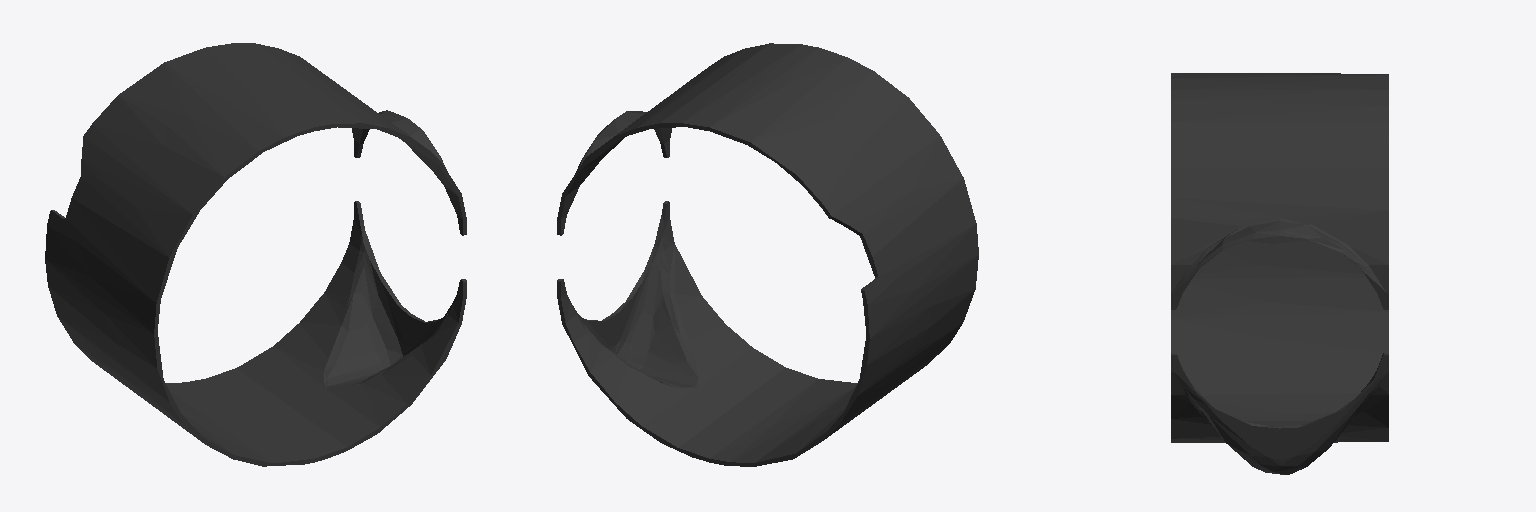
The picture shows the model from 3 angles: view 1: azimuth 30°, elevation 25°; view 2: azimuth 150°, elevation 25°; view 3: azimuth 270°, elevation 25°; orthographic projection.
Parts seen in each view (by area): view 1: /ambf/env/pr2/r_shoulder_lift_link_/ambf/env/pr2/r_shoulder_lift; view 2: /ambf/env/pr2/r_shoulder_lift_link_/ambf/env/pr2/r_shoulder_lift; view 3: /ambf/env/pr2/r_shoulder_lift_link_/ambf/env/pr2/r_shoulder_lift.
Boxes of the visible parts, box(x1,y1,x2,y2) form: /ambf/env/pr2/r_shoulder_lift_link_/ambf/env/pr2/r_shoulder_lift: box(45, 43, 466, 466); /ambf/env/pr2/r_shoulder_lift_link_/ambf/env/pr2/r_shoulder_lift: box(557, 43, 978, 466); /ambf/env/pr2/r_shoulder_lift_link_/ambf/env/pr2/r_shoulder_lift: box(1171, 73, 1388, 474).
Size of the model in its own units: 0.2483 by 0.254 by 0.15.
1 materials, 1 textured.